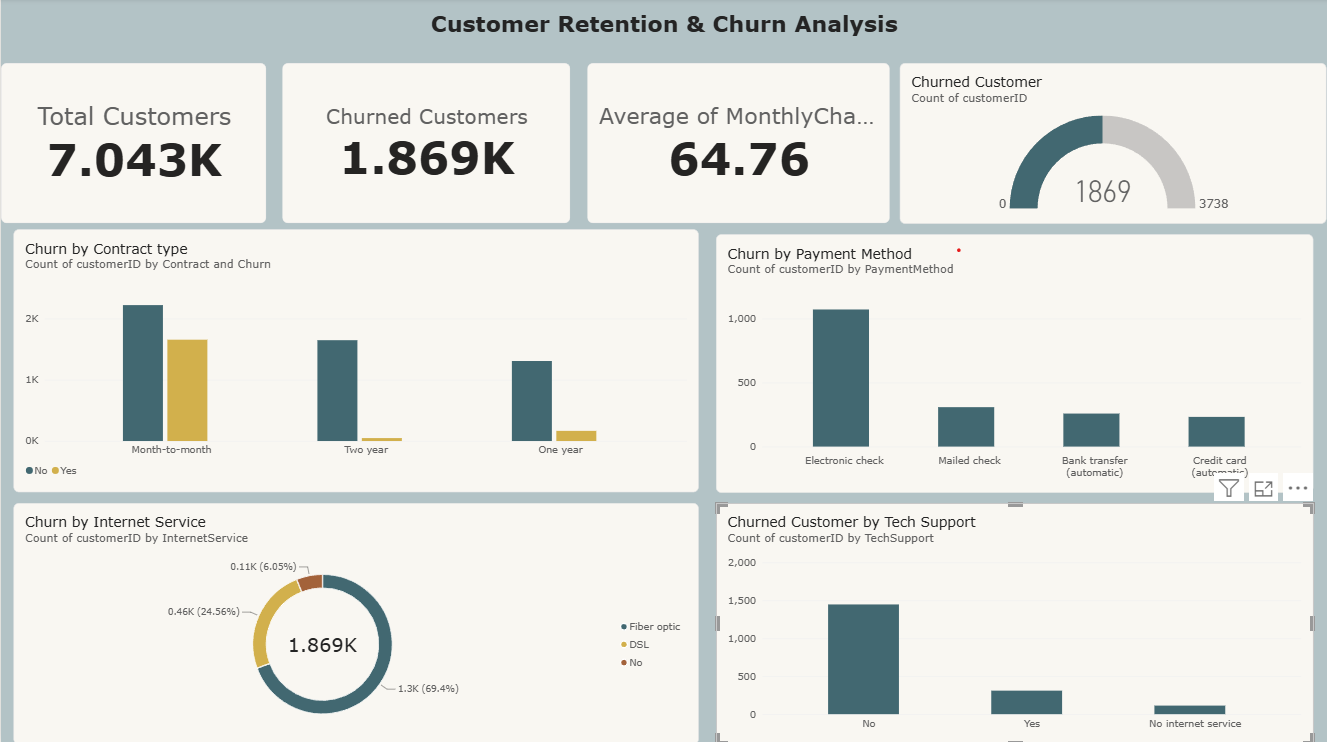

What the dashboard file says about the page in this screenshot:
{"tool":"powerbi","page":{"name":"Page 1","canvas":[1920,1080],"ordinal":0},"visuals":[{"type":"cardVisual","fields":{"Data":["CountNonNull(Telco-Customer-Churn.customerID)"]},"box":[0,94.7,384.9,232.6],"z":0},{"type":"cardVisual","fields":{"Data":["Count(Telco-Customer-Churn.customerID)"]},"box":[407.5,94.7,417.8,232.6],"z":1},{"type":"textbox","box":[0,0,1920.4,78.2],"z":2},{"type":"cardVisual","fields":{"Data":["Avg(Telco-Customer-Churn.MonthlyCharges)"]},"box":[848,94.7,438.4,232.6],"z":3},{"type":"clusteredColumnChart","title":"Churn by Contract type","fields":{"Category":["Telco-Customer-Churn.Contract"],"Series":["Telco-Customer-Churn.Churn"],"Y":["Count(Telco-Customer-Churn.customerID)"]},"box":[18.5,335.5,992.1,380.8],"z":4},{"type":"donutChart","title":"Churn by Internet Service","fields":{"Category":["Telco-Customer-Churn.InternetService"],"Y":["Count(Telco-Customer-Churn.customerID)"]},"box":[18.5,730.7,992.1,349.9],"z":5},{"type":"clusteredColumnChart","title":"Churn by Payment Method","fields":{"Category":["Telco-Customer-Churn.PaymentMethod"],"Y":["Count(Telco-Customer-Churn.customerID)"]},"box":[1035.3,341.7,864.5,374.6],"z":6},{"type":"gauge","title":"Churned Customer","fields":{"Y":["Count(Telco-Customer-Churn.customerID)"]},"box":[1300.9,94.7,619.6,232.6],"z":7},{"type":"clusteredColumnChart","title":"Churned Customer by Tech Support","fields":{"Category":["Telco-Customer-Churn.TechSupport"],"Y":["Count(Telco-Customer-Churn.customerID)"]},"box":[1035.3,730.7,864.5,349.9],"z":8}]}

Visuals, with their boxes in screenshot pixels (x1, y1, x2, y2), scaled from the page's 1920x1080 canvas onto the 1327x742 screenshot:
cardVisual - CountNonNull(Telco-Customer-Churn.customerID): 0, 65, 266, 225
cardVisual - Count(Telco-Customer-Churn.customerID): 282, 65, 570, 225
textbox: 0, 0, 1326, 54
cardVisual - Avg(Telco-Customer-Churn.MonthlyCharges): 586, 65, 889, 225
"Churn by Contract type" clusteredColumnChart: 13, 231, 698, 492
"Churn by Internet Service" donutChart: 13, 502, 698, 741
"Churn by Payment Method" clusteredColumnChart: 716, 235, 1313, 492
"Churned Customer" gauge: 899, 65, 1326, 225
"Churned Customer by Tech Support" clusteredColumnChart: 716, 502, 1313, 741
